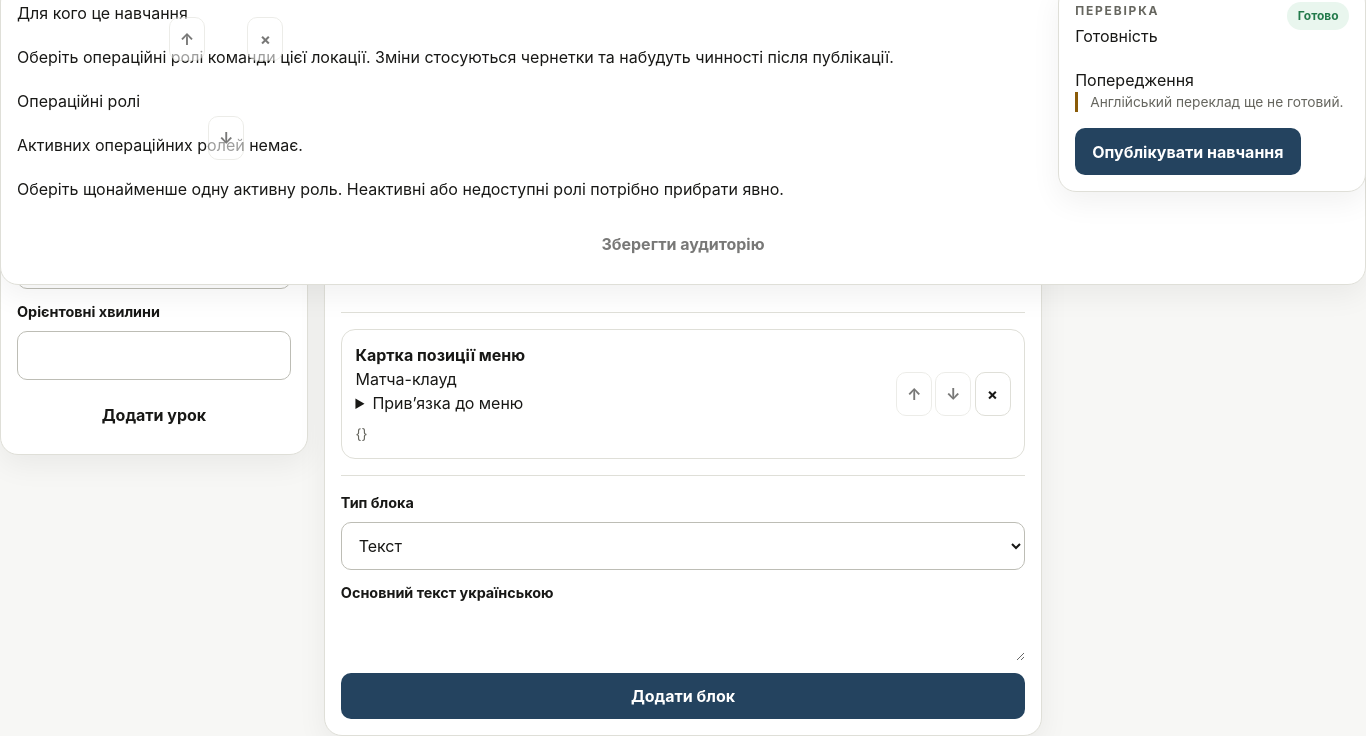
it: Admin Training workspace › identifies existing cards from the bound menu without changing their bindings
The width and height of the screenshot is (1366, 736).
(page scrolled)
expect the text "Матча-клауд" is shown: met, box [355, 369, 457, 389]
Click the heading "Прив’язка до меню" at {"x": 448, "y": 403}, box [372, 393, 523, 413]
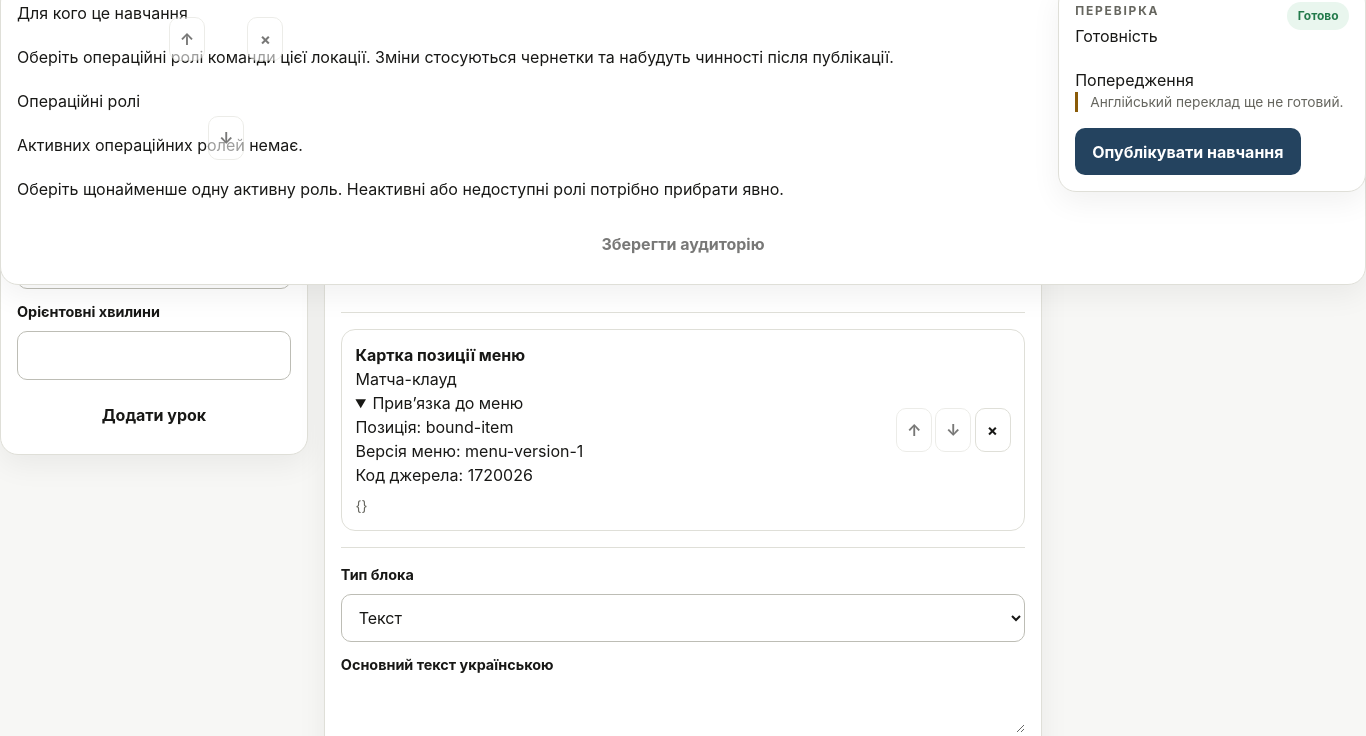
expect the text "Позиція: bound-item" is shown: met, box [355, 417, 513, 437]
expect the text "Код джерела: 1720026" is shown: met, box [355, 465, 533, 485]
